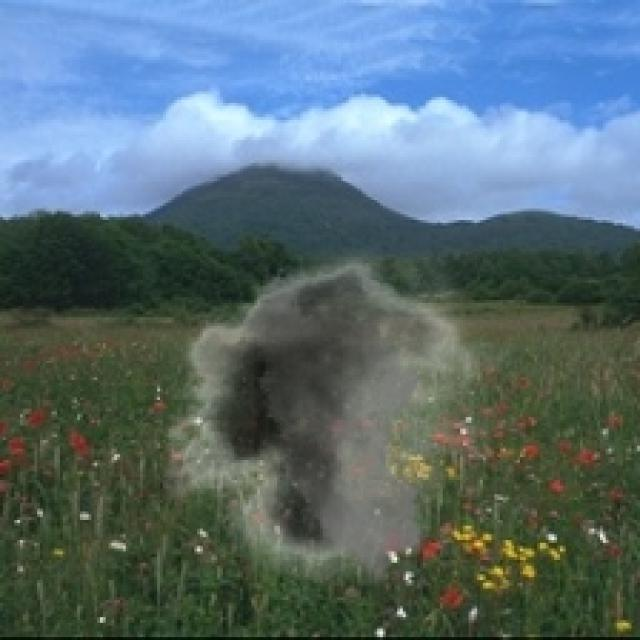Smoke: (145, 237, 520, 586)
